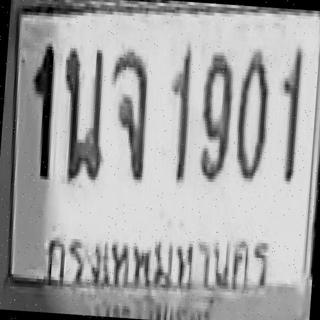A08: (105, 46, 152, 182)
A25: (57, 44, 110, 183)
N00: (232, 48, 272, 179)
N01: (25, 42, 56, 179), (164, 46, 193, 183), (274, 46, 303, 180)
N09: (196, 50, 234, 181)
P04: (35, 215, 276, 306)
